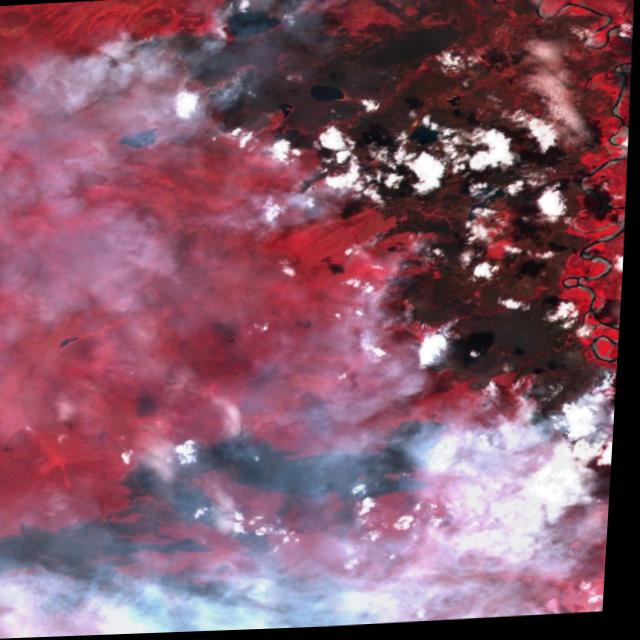fire: (160, 61, 272, 139), (348, 273, 408, 375), (212, 186, 327, 237), (459, 376, 558, 423), (203, 0, 362, 29), (207, 502, 275, 555), (94, 23, 166, 64), (588, 366, 622, 413)
